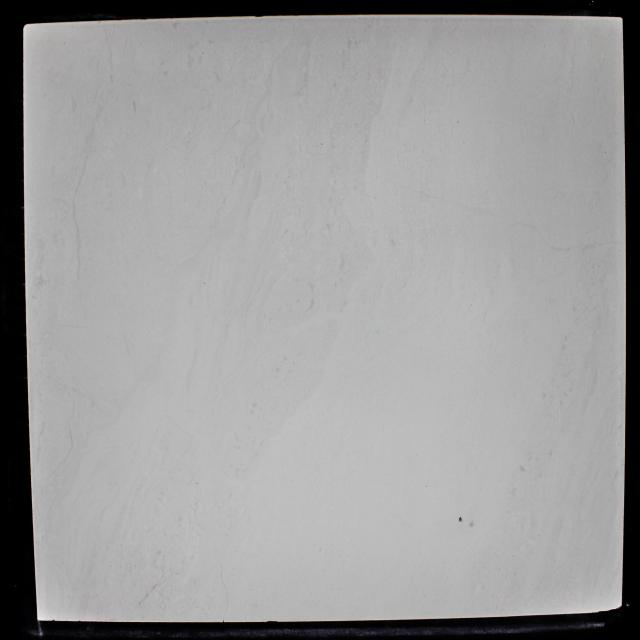hole: (457, 515, 464, 524)
